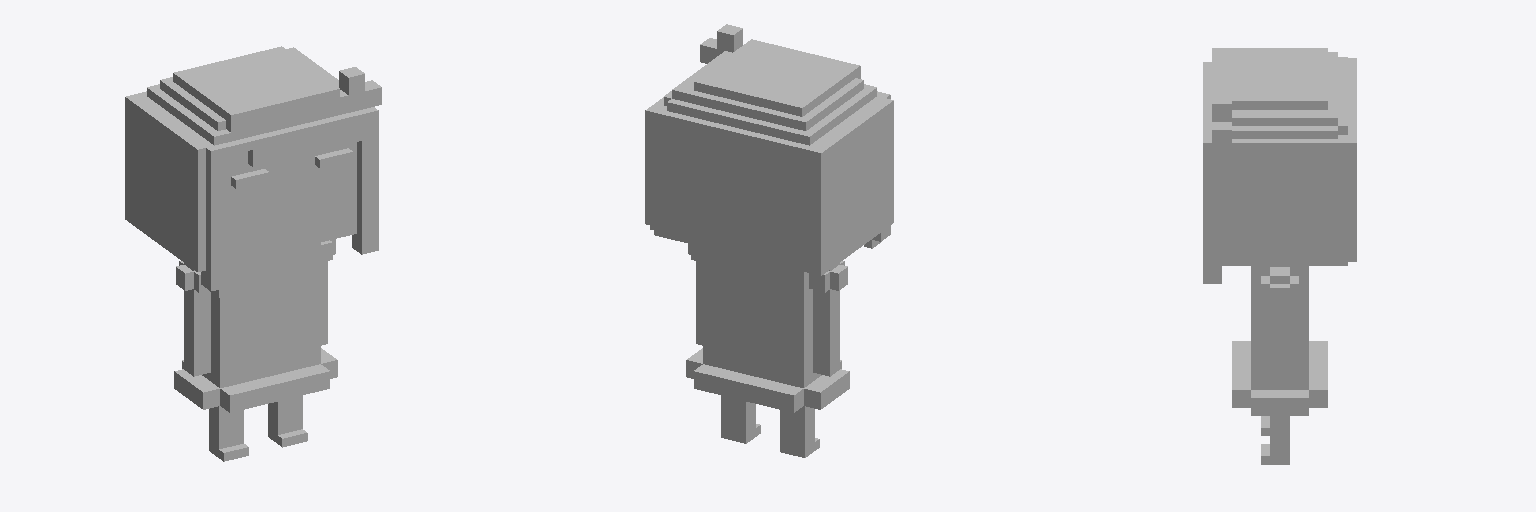
File: idle- Girl.obj
3 views of the same model, side by side, from view 1: azimuth 30°, elevation 25°; view 2: azimuth 150°, elevation 25°; view 3: azimuth 270°, elevation 25° (orthographic).
Visible parts, largest first — view 1: character; view 2: character; view 3: character.
Part boxes in pixels (x1,y1,x2,y2): character: (125, 46, 381, 461); character: (645, 24, 893, 457); character: (1203, 48, 1356, 464).
Bounding box in the file's own units: 2.2 × 4.3 × 1.6.